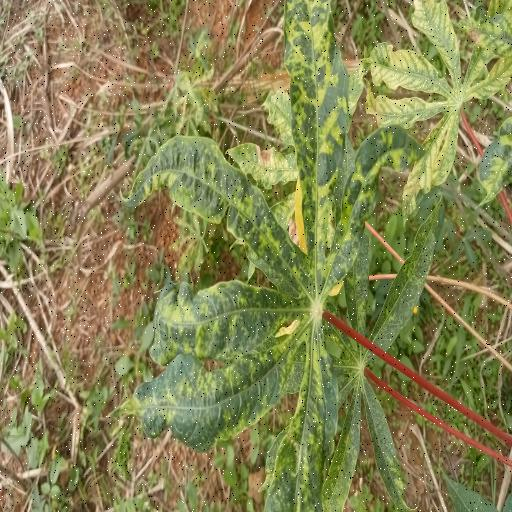Cassava_Mosaic: (117, 0, 427, 512), (365, 0, 512, 229)
